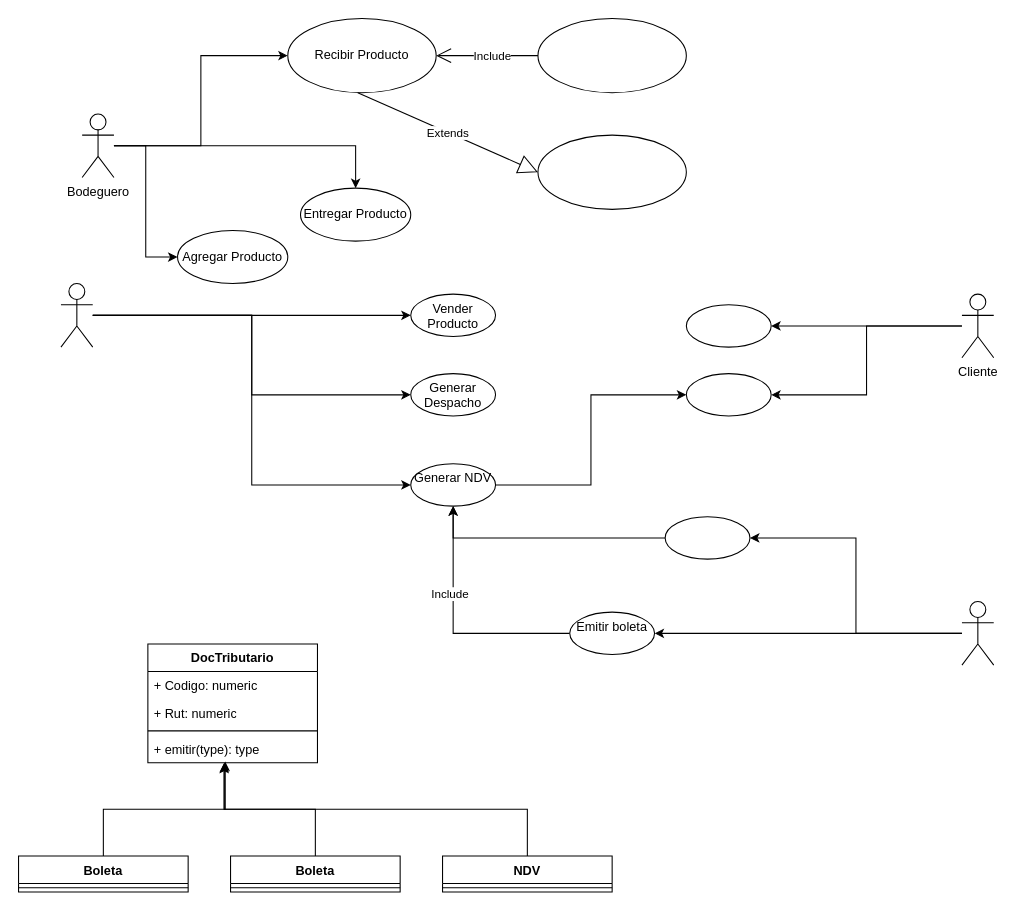
Some shapes in this 1027 by 911 pixel diagram are drawn without their labels. Here are the shapes that lost their labels. From the top down, the centre of each, then its label:
At (x=611, y=55): "Revisar OC".
At (x=611, y=171): "Rechazar Producto".
At (x=76, y=314): "Vendedor".
At (x=728, y=325): "Solicitar Producto".
At (x=728, y=394): "Pagar Producto".
At (x=707, y=537): "Emitir Factura".
At (x=977, y=632): "Facturador".
